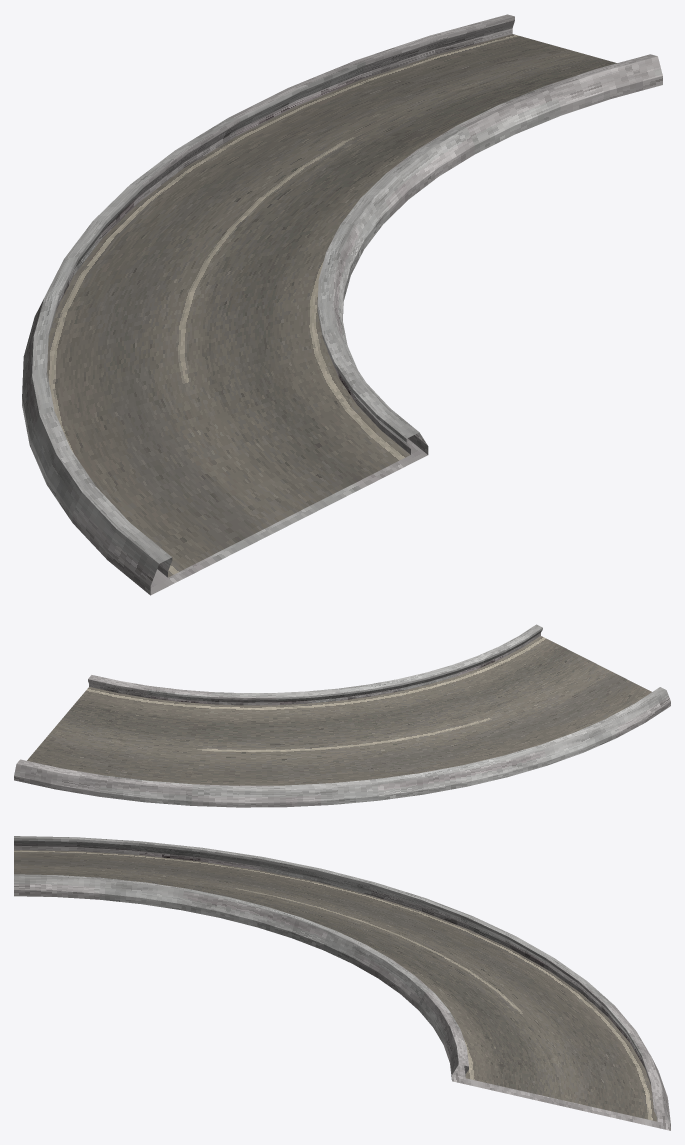
Rendered from road-Turn-HalfBankedLeft-HalfBankedLeft-Even-Right-Size3.glb.
The picture shows the model from 3 angles, top to bottom: view 1: azimuth 30°, elevation 25°; view 2: azimuth 150°, elevation 25°; view 3: azimuth 270°, elevation 25°; orthographic projection. The views are drawn at different scales.
Visible parts, largest first — view 1: road-Turn-HalfBankedLeft-HalfBankedLeft-Even-Right-Size3; view 2: road-Turn-HalfBankedLeft-HalfBankedLeft-Even-Right-Size3; view 3: road-Turn-HalfBankedLeft-HalfBankedLeft-Even-Right-Size3.
Part boxes in pixels (x1,y1,x2,y2): road-Turn-HalfBankedLeft-HalfBankedLeft-Even-Right-Size3: [22, 14, 662, 595]; road-Turn-HalfBankedLeft-HalfBankedLeft-Even-Right-Size3: [14, 624, 670, 807]; road-Turn-HalfBankedLeft-HalfBankedLeft-Even-Right-Size3: [14, 836, 670, 1130].
Size of the model in its own units: 3 by 0.3359 by 3.
2 materials, 2 textured.
